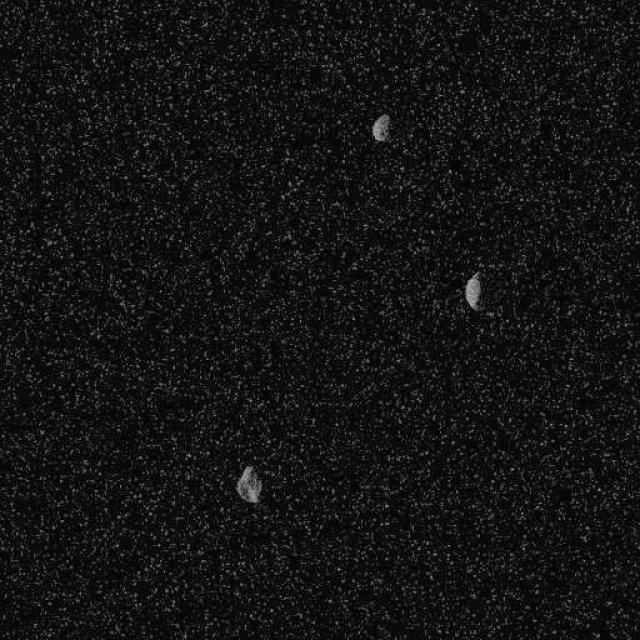D2: (235, 464, 263, 504), (464, 270, 484, 311), (370, 112, 390, 142)
